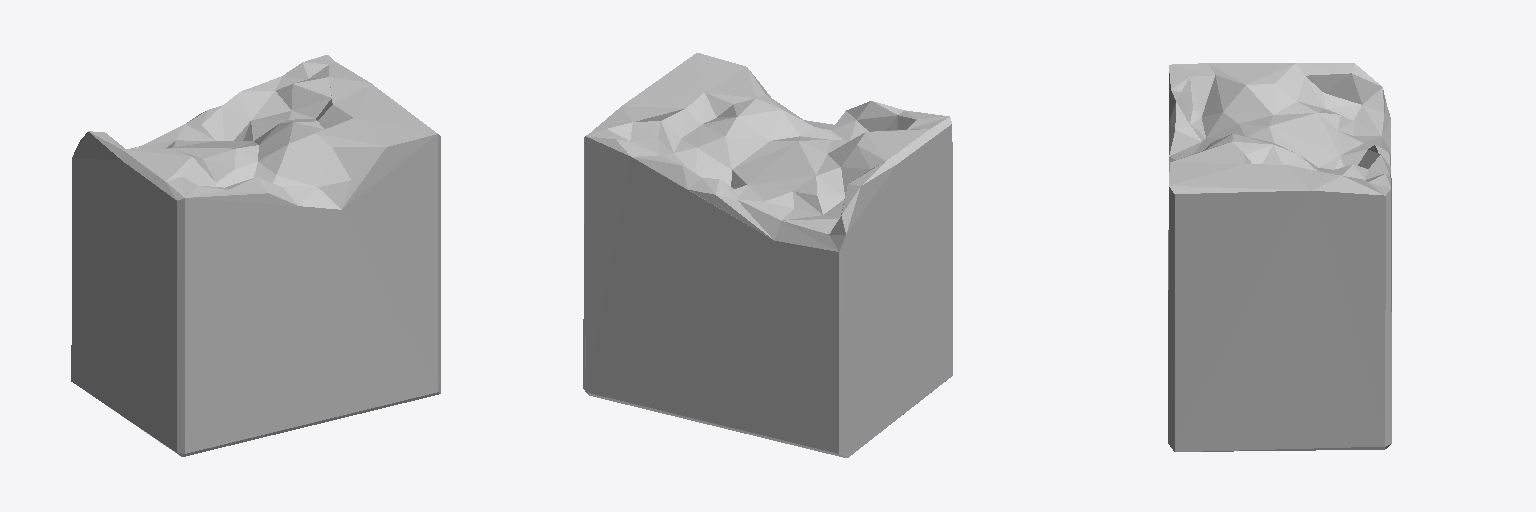
3 views of the same model, side by side, from view 1: azimuth 30°, elevation 25°; view 2: azimuth 150°, elevation 25°; view 3: azimuth 270°, elevation 25° (orthographic).
Visible parts, largest first — view 1: Liquid_Domain; view 2: Liquid_Domain; view 3: Liquid_Domain.
Part boxes in pixels (x1,y1,x2,y2): Liquid_Domain: (71, 55, 440, 456); Liquid_Domain: (583, 53, 952, 457); Liquid_Domain: (1168, 63, 1391, 451).
Size of the model in its own units: 16.97 by 16.21 by 12.43.